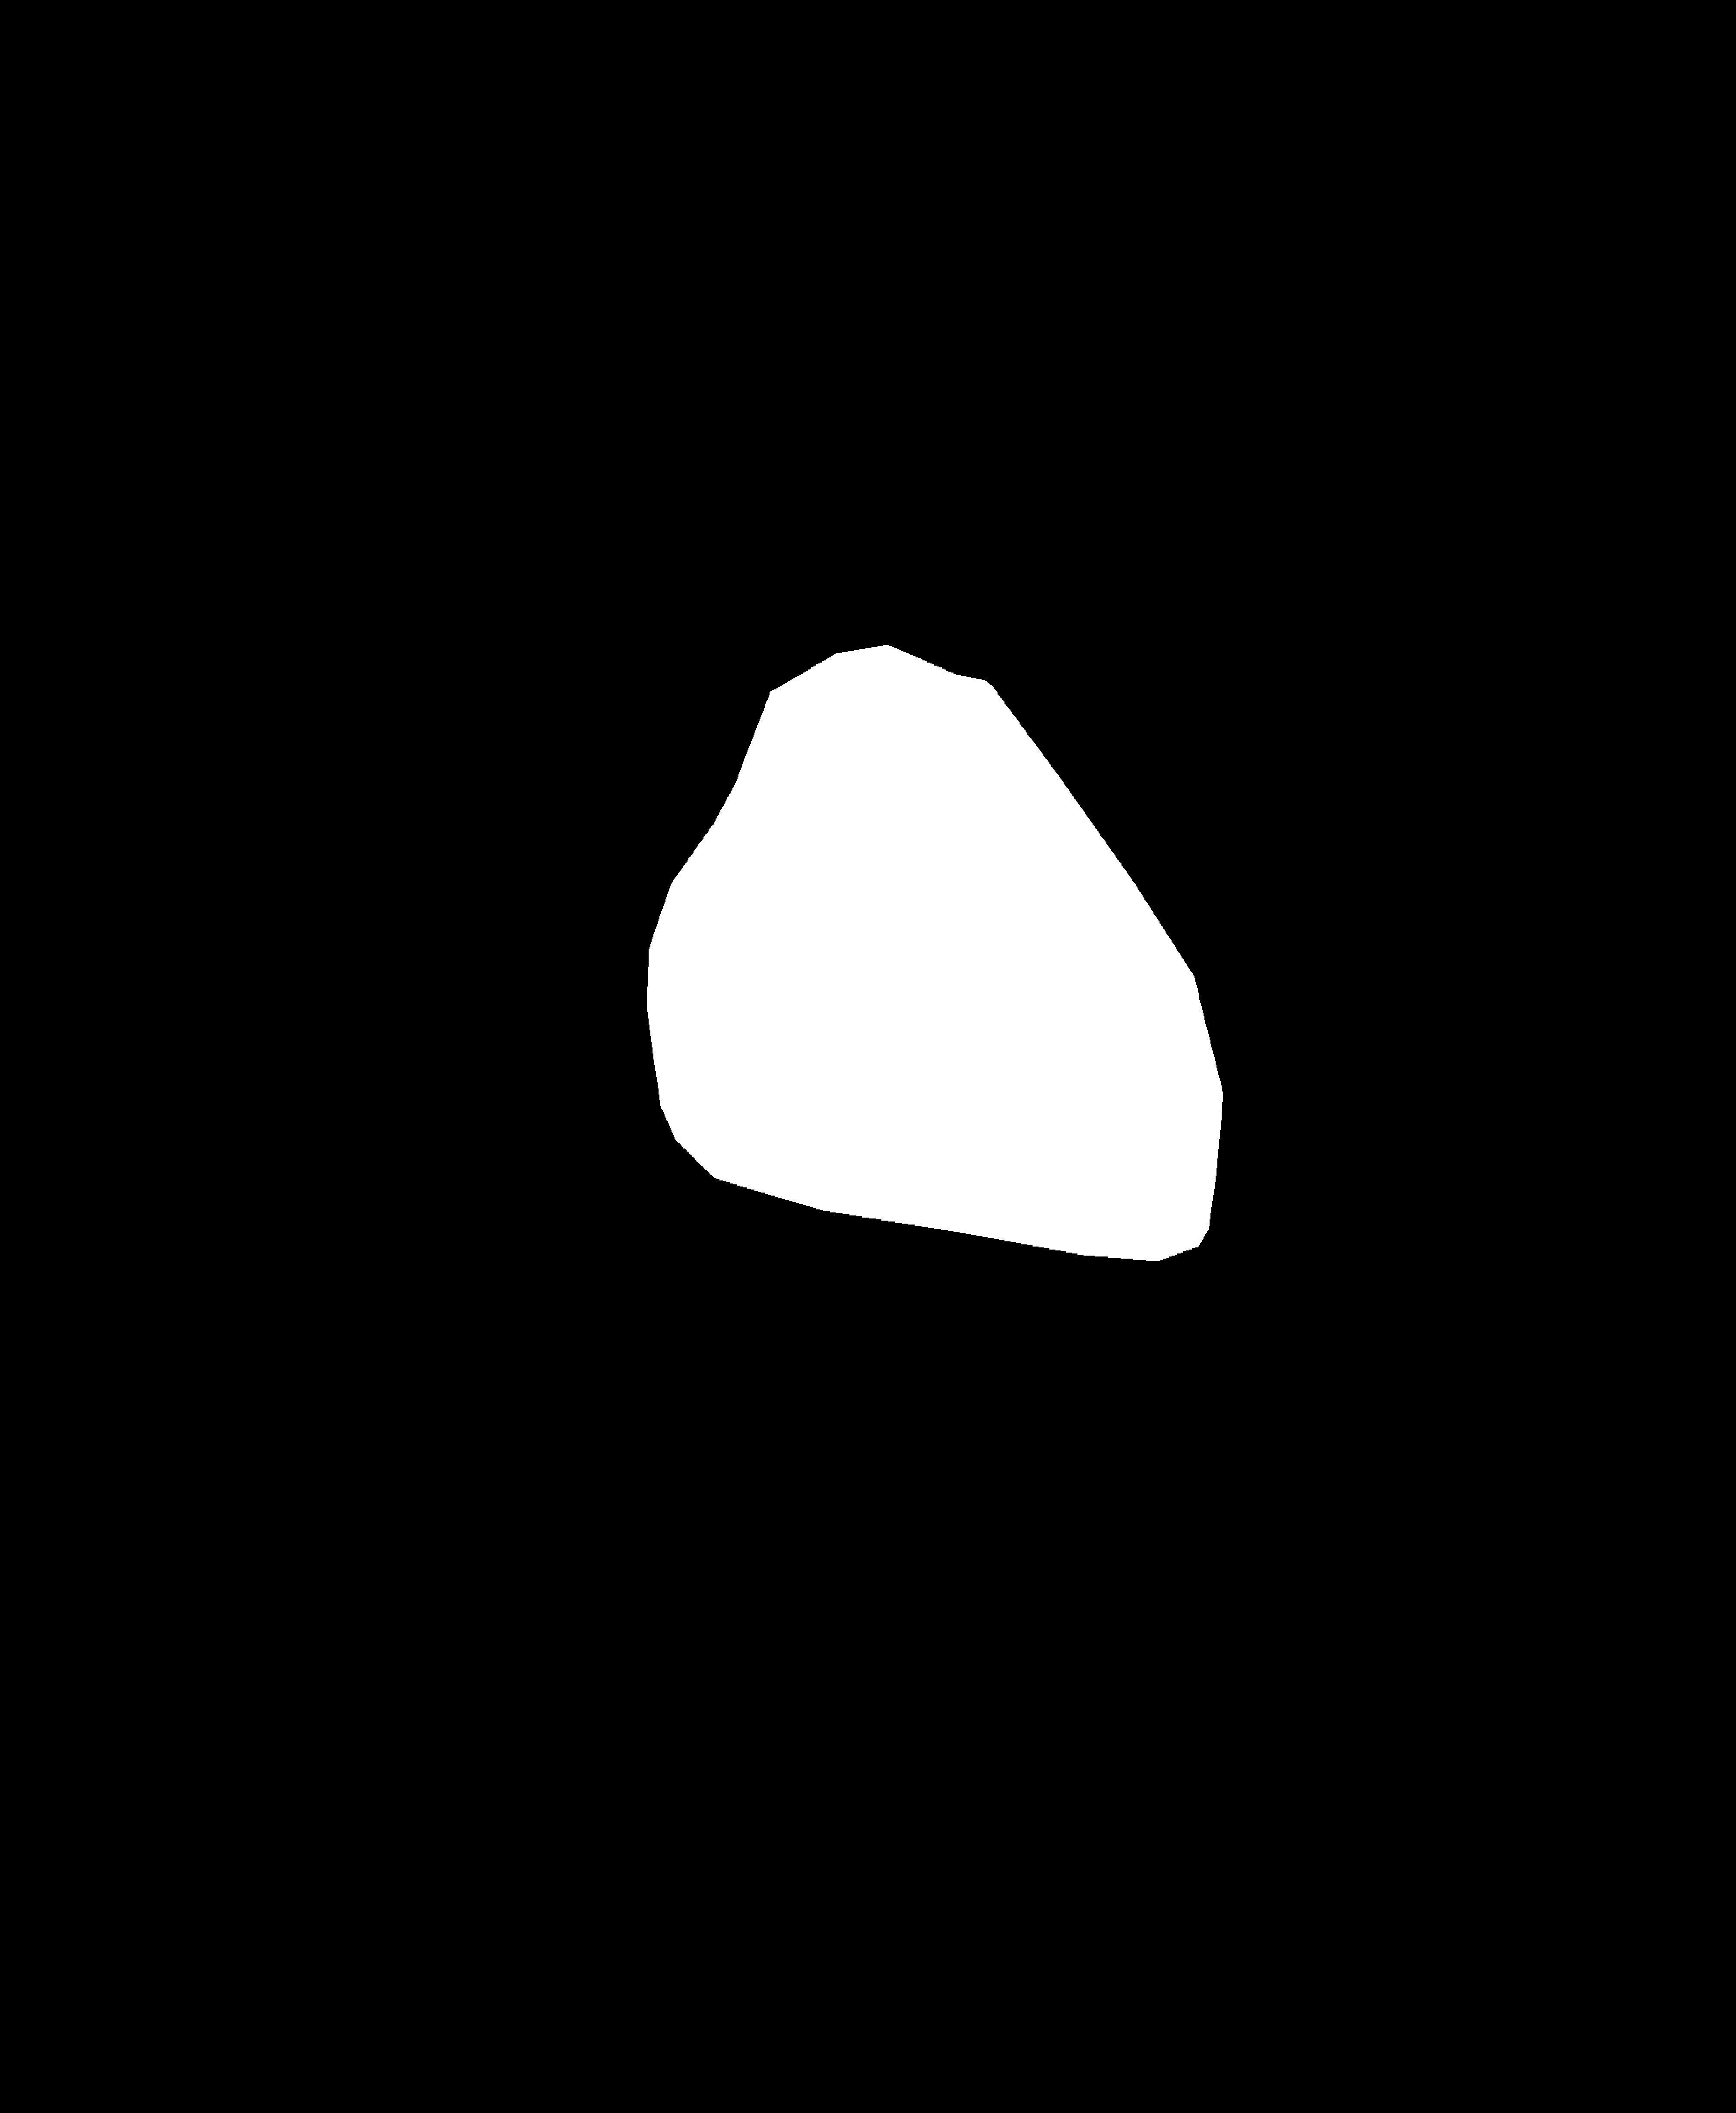heart: (644, 765, 1218, 1250)
left_lung: (193, 97, 813, 1450)
right_lung: (915, 104, 1515, 1469)
